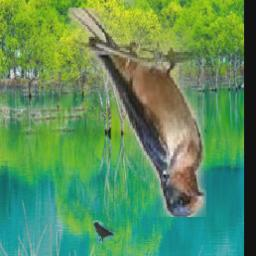Crow: (93, 221, 115, 244)
Swallow: (67, 9, 205, 218)
